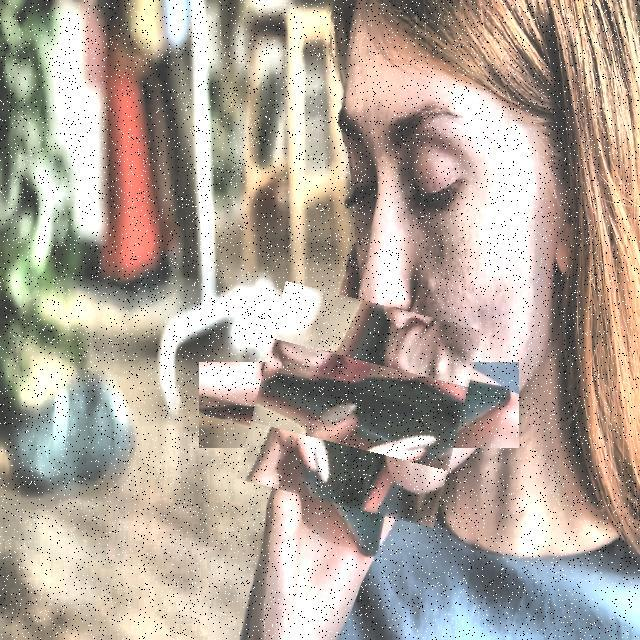Phone: (247, 292, 472, 518)
